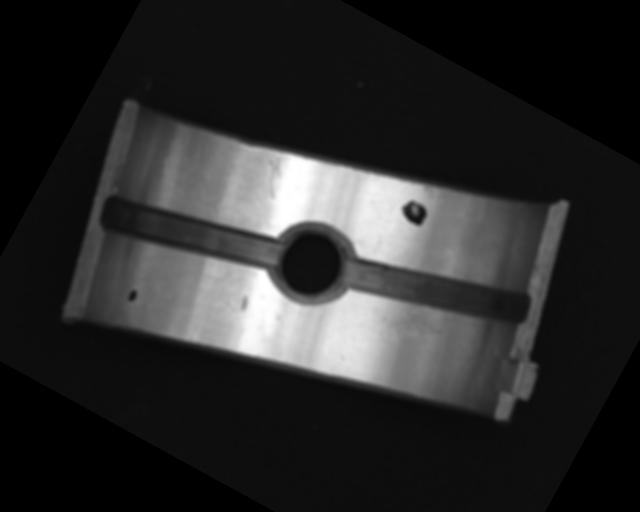blot: (395, 196, 431, 229), (124, 286, 140, 304)
bruise: (237, 293, 252, 312)
gap: (338, 214, 533, 369), (95, 162, 283, 308)
hole: (258, 211, 365, 316)
nick: (253, 148, 296, 201)
scratch: (371, 294, 453, 364)
